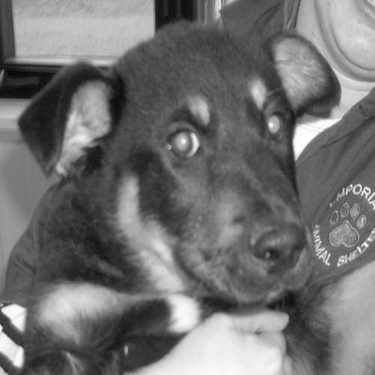dog: (11, 17, 347, 373)
